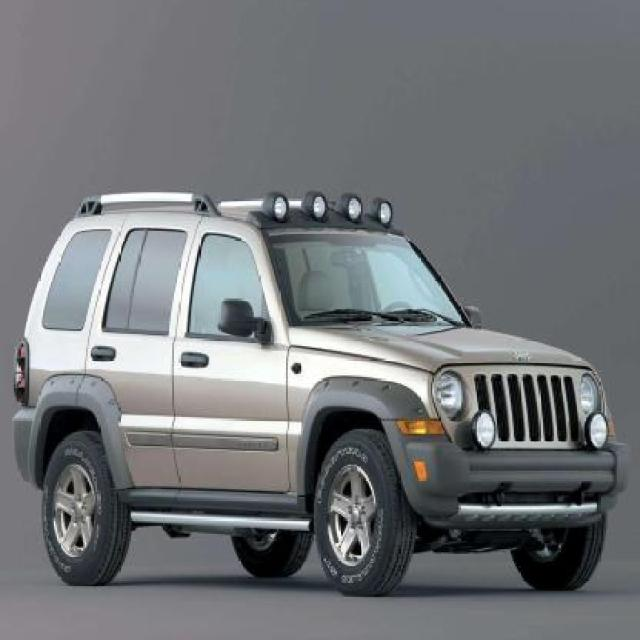Jeep: (14, 188, 620, 601)
